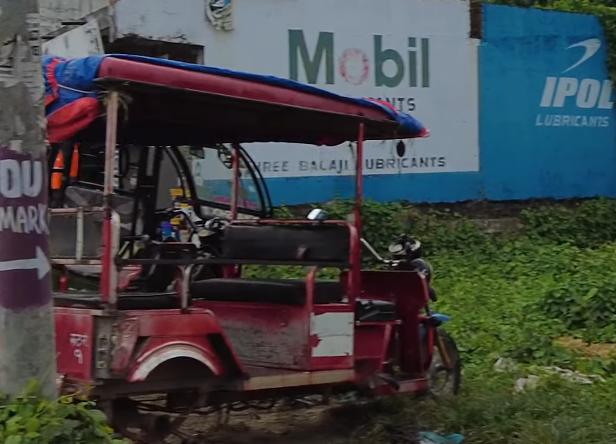e-rickshaw: (37, 41, 472, 415)
